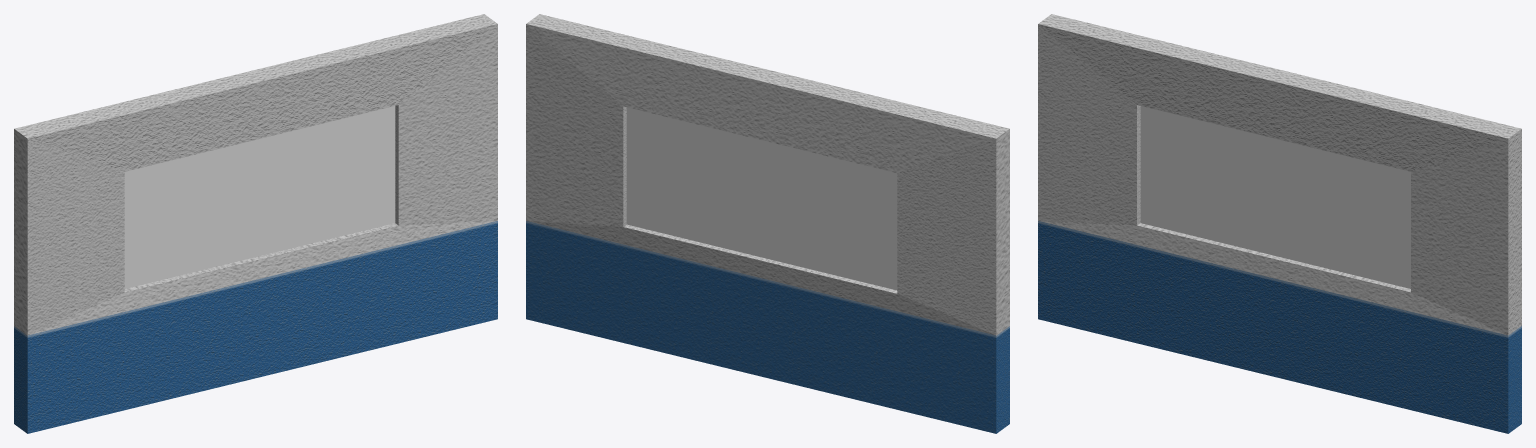
Rendered from window_wall.fbx.
3 renders of one model, left to right at view 1: azimuth 30°, elevation 25°; view 2: azimuth 150°, elevation 25°; view 3: azimuth 330°, elevation 25°, orthographic.
Visible parts, largest first — view 1: Plane.003; view 2: Plane.003; view 3: Plane.003.
Part boxes in pixels (bbox=[...]): Plane.003: bbox=[14, 14, 497, 433]; Plane.003: bbox=[526, 14, 1009, 433]; Plane.003: bbox=[1038, 14, 1521, 433].
Bounding box in the file's own units: 1000 × 600 × 53.59.
2 materials, 1 textured.
